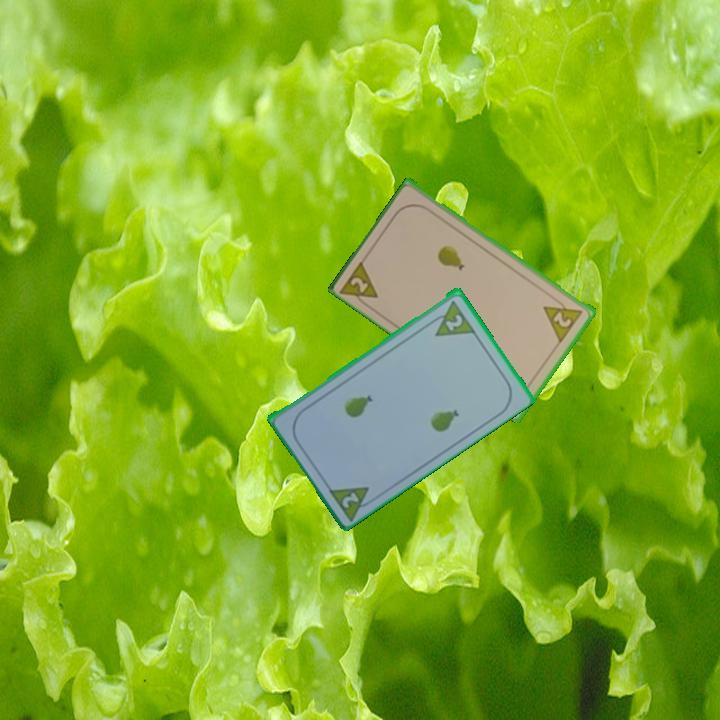2p: (337, 256, 382, 312), (540, 293, 586, 344), (441, 310, 466, 334), (338, 488, 362, 511)
